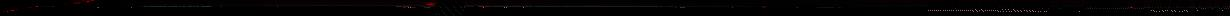Blue cone: (73, 2, 81, 4), (35, 6, 39, 7)
Yellow cone: (423, 2, 438, 6), (761, 6, 767, 8)
